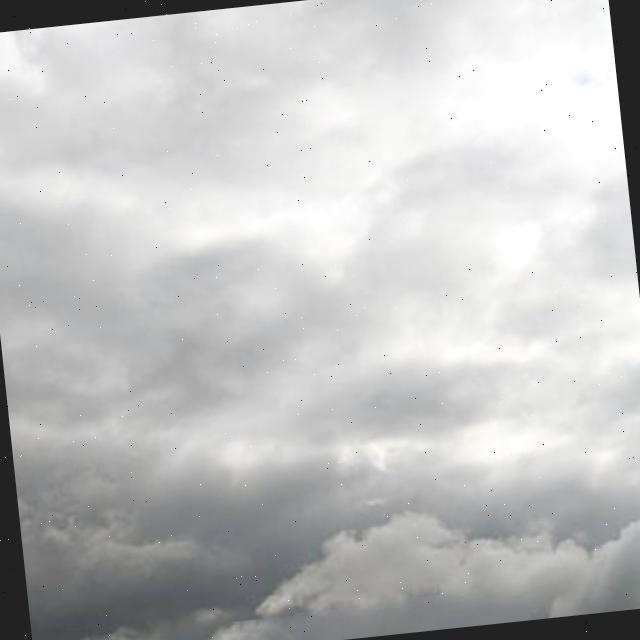Ns: (1, 5, 640, 640)
